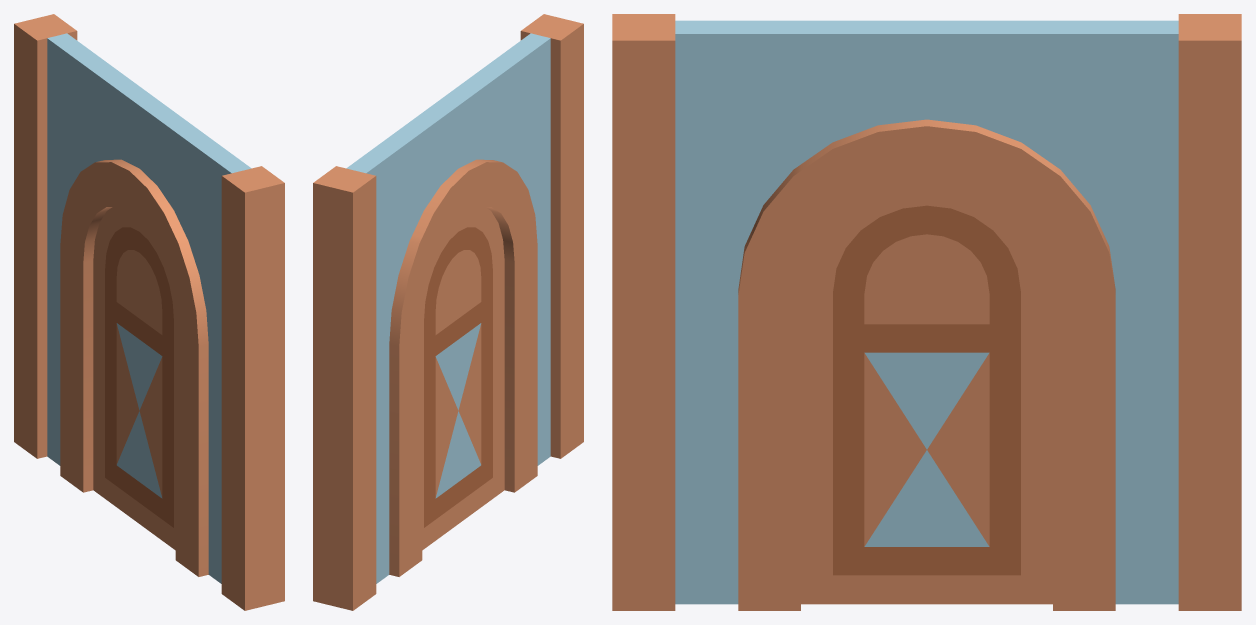
Rendered from wallDoor.obj.
3 renders of one model, left to right at view 1: azimuth 30°, elevation 25°; view 2: azimuth 150°, elevation 25°; view 3: azimuth 270°, elevation 25°, orthographic. The views are drawn at different scales.
Parts seen in each view (by area): view 1: wallDoor, door; view 2: wallDoor, door; view 3: wallDoor, door.
Boxes of the visible parts, x1,y1,x2,y2 form: wallDoor: [14, 14, 284, 610]; door: [93, 207, 175, 550]; wallDoor: [313, 14, 583, 610]; door: [422, 207, 504, 550]; wallDoor: [612, 14, 1241, 610]; door: [801, 183, 1052, 604].
Bounding box in the file's own units: 0.1 × 1 × 1.
